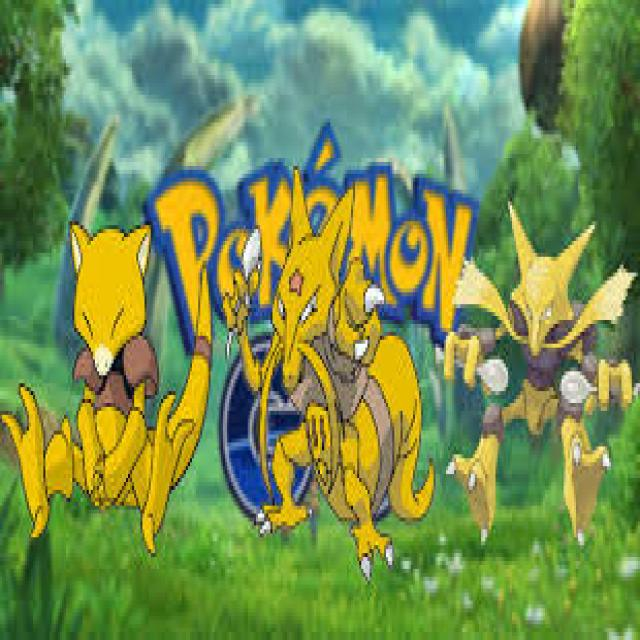Abra: (60, 215, 164, 509)
Alakazam: (487, 230, 601, 494)
Kadabra: (249, 211, 393, 527)
